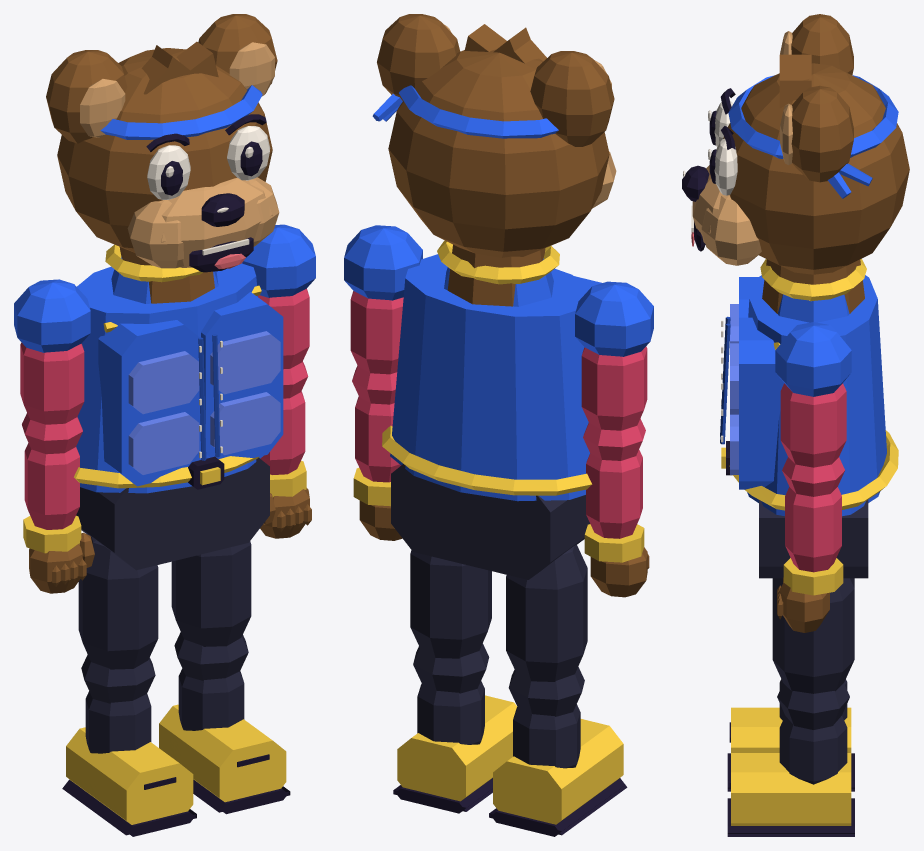
3 renders of one model, left to right at view 1: azimuth 30°, elevation 25°; view 2: azimuth 150°, elevation 25°; view 3: azimuth 270°, elevation 25°, orthographic. The views are drawn at different scales.
Visible parts, largest first — view 1: head_fur, torso_padded_vest, torso_vest_quilt, hips_trousers, head_fur_secondary, thigh_r_trousers, shin_r_trim_belt_boots, shin_l_trim_belt_boots, thigh_l_trousers, shin_l_trousers, shin_r_trousers, forearm_r_shirt_sleeves (+18 smaller); view 2: head_fur, torso_padded_vest, hips_trousers, thigh_r_trousers, shin_r_trim_belt_boots, thigh_l_trousers, shin_l_trim_belt_boots, shin_l_trousers, shin_r_trousers, forearm_r_shirt_sleeves, torso_trim_belt_boots, upperarm_r_padded_vest (+12 smaller); view 3: head_fur, torso_padded_vest, shin_l_trim_belt_boots, thigh_l_trousers, shin_l_trousers, forearm_l_shirt_sleeves, upperarm_l_shirt_sleeves, head_fur_secondary, upperarm_l_padded_vest, torso_trim_belt_boots, hips_trousers, head_padded_vest (+9 smaller).
Part boxes in pixels (box(x1,y1,x2,y2)): head_fur: box(46, 14, 277, 252); torso_padded_vest: box(76, 256, 283, 493); torso_vest_quilt: box(128, 331, 280, 474); hips_trousers: box(76, 457, 269, 570); head_fur_secondary: box(80, 42, 279, 268); thigh_r_trousers: box(78, 536, 158, 669); shin_r_trim_belt_boots: box(66, 727, 193, 824); shin_l_trim_belt_boots: box(159, 704, 286, 802); thigh_l_trousers: box(171, 541, 251, 646); shin_l_trousers: box(174, 632, 248, 730); shin_r_trousers: box(81, 654, 155, 753); forearm_r_shirt_sleeves: box(22, 413, 82, 529); head_fur: box(377, 14, 614, 257); torso_padded_vest: box(390, 254, 601, 501); hips_trousers: box(391, 464, 589, 579); thigh_r_trousers: box(506, 544, 587, 681); shin_r_trim_belt_boots: box(493, 719, 623, 824); thigh_l_trousers: box(410, 550, 491, 658); shin_l_trim_belt_boots: box(397, 695, 517, 801); shin_l_trousers: box(413, 643, 489, 744); shin_r_trousers: box(508, 667, 584, 768); forearm_r_shirt_sleeves: box(583, 418, 645, 538); torso_trim_belt_boots: box(382, 240, 592, 495); upperarm_r_padded_vest: box(575, 281, 653, 356); head_fur: box(723, 14, 909, 274); torso_padded_vest: box(739, 275, 886, 516); shin_l_trim_belt_boots: box(731, 753, 851, 825); thigh_l_trousers: box(772, 578, 854, 693); shin_l_trousers: box(777, 683, 849, 784); forearm_l_shirt_sleeves: box(782, 457, 844, 572); upperarm_l_shirt_sleeves: box(780, 383, 846, 467); head_fur_secondary: box(692, 31, 792, 265); upperarm_l_padded_vest: box(775, 322, 851, 396); torso_trim_belt_boots: box(721, 259, 898, 510); hips_trousers: box(759, 500, 868, 578); head_padded_vest: box(728, 75, 898, 198).
Bounding box in the file's own units: 0.7607 × 1.85 × 0.511.
